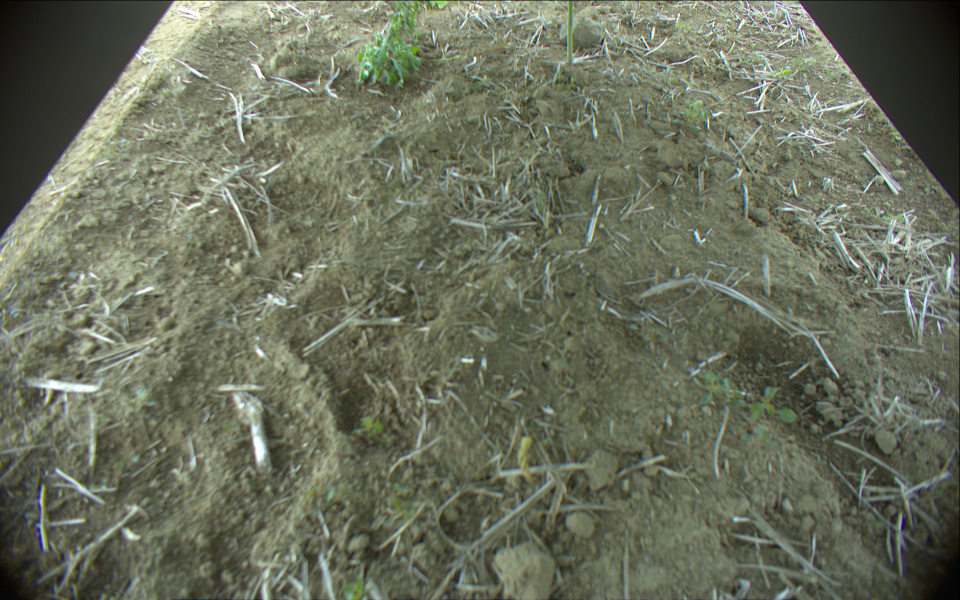aspa: (565, 1, 575, 64)
